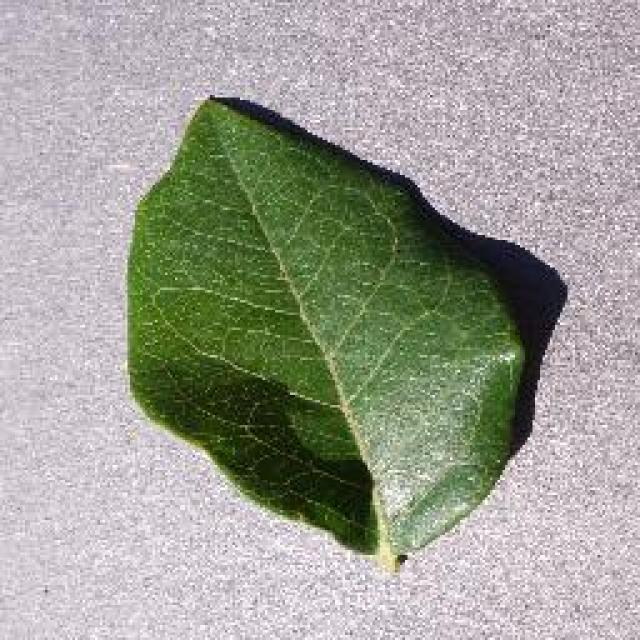Blu_healthy: (159, 158, 486, 518)
